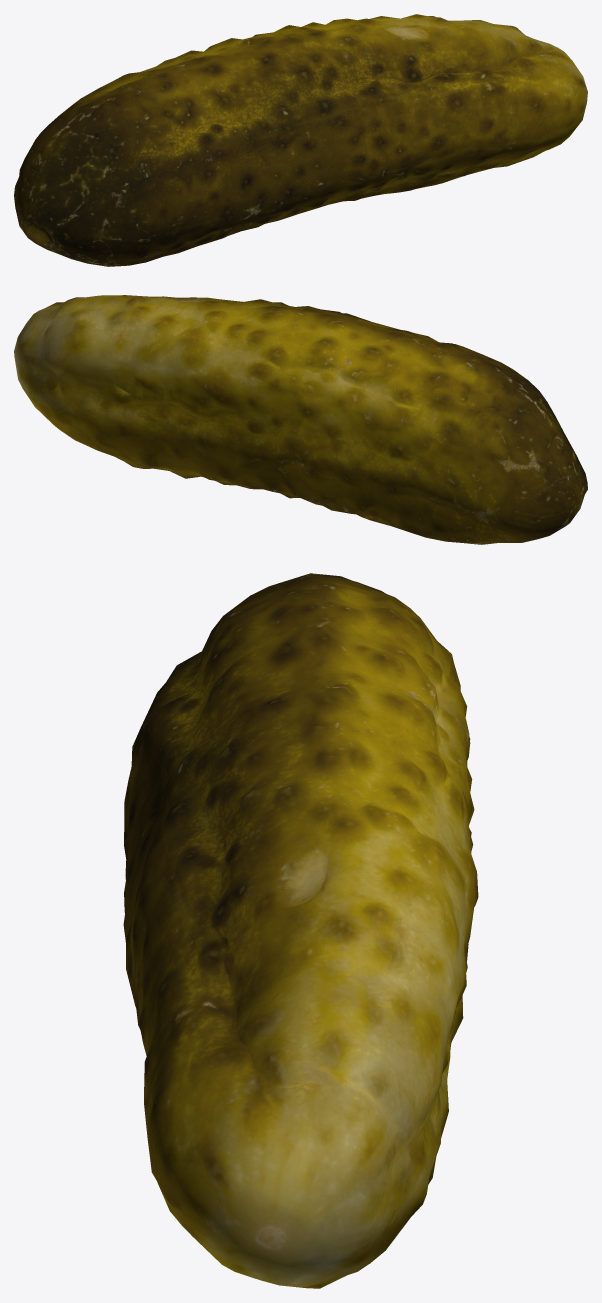
File: Pickle_uishdjrva_Mid.gltf
The picture shows the model from 3 angles, top to bottom: view 1: azimuth 30°, elevation 25°; view 2: azimuth 150°, elevation 25°; view 3: azimuth 270°, elevation 25°; orthographic projection. The views are drawn at different scales.
Visible parts, largest first — view 1: uishdjrva_LOD0_TIER2_000; view 2: uishdjrva_LOD0_TIER2_000; view 3: uishdjrva_LOD0_TIER2_000.
Part boxes in pixels (left/top/right/bottom): uishdjrva_LOD0_TIER2_000: left=14, top=14, right=587, bottom=266; uishdjrva_LOD0_TIER2_000: left=14, top=295, right=587, bottom=544; uishdjrva_LOD0_TIER2_000: left=123, top=573, right=478, bottom=1288.
Bounding box in the file's own units: 0.0899 × 0.0286 × 0.0252.
Materials: 1 (1 with a texture image).
